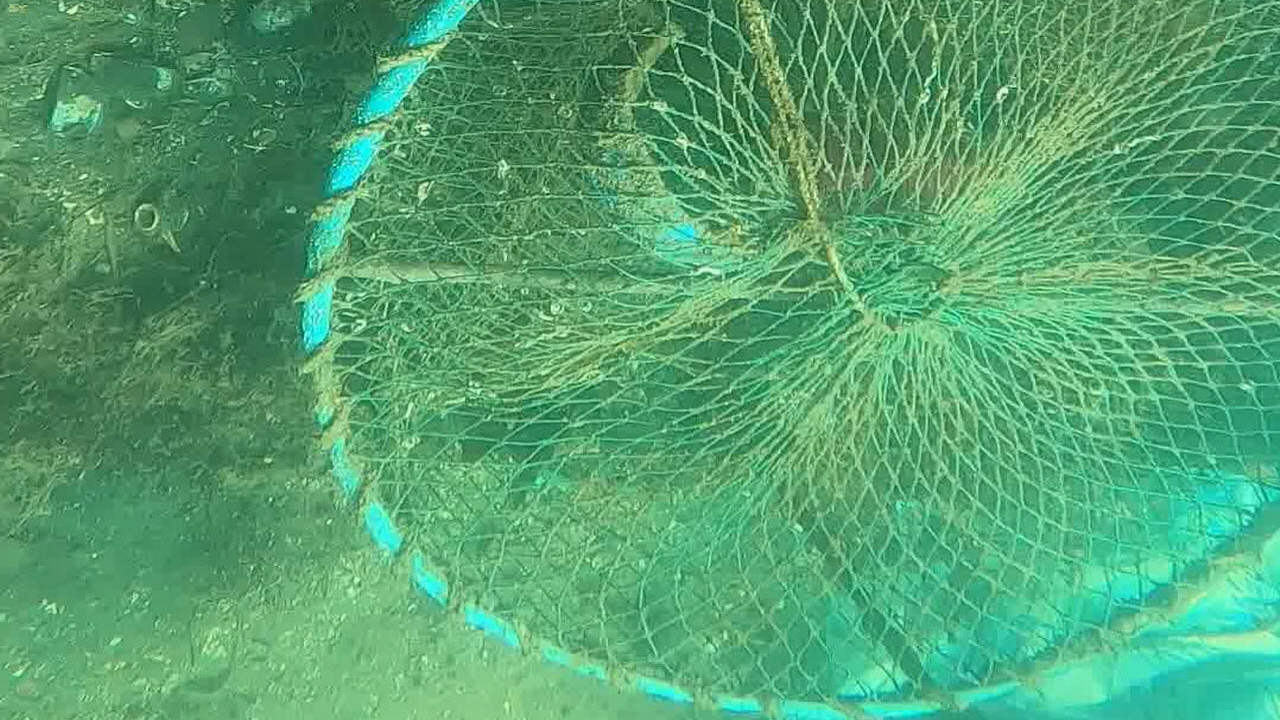circular fish trap: (300, 0, 1280, 720)
